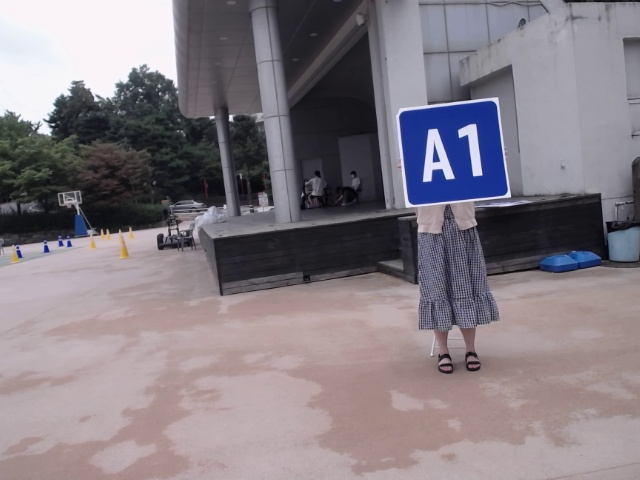delivery_a1: (397, 99, 509, 206)
